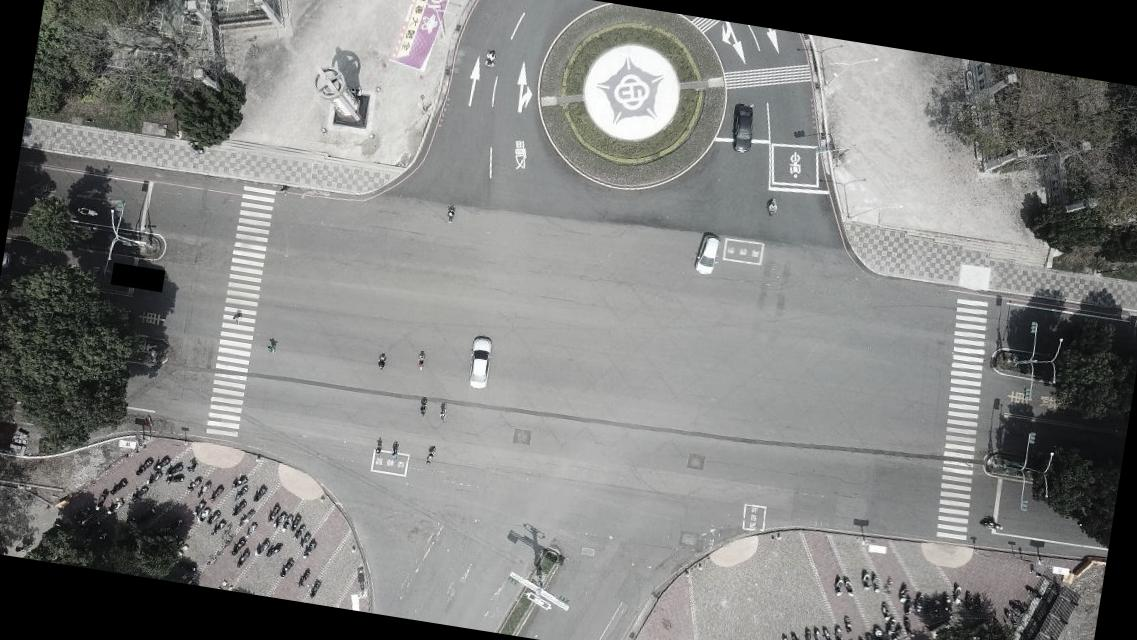vehicle: (464, 332, 495, 390), (727, 102, 758, 154), (691, 232, 723, 278)
